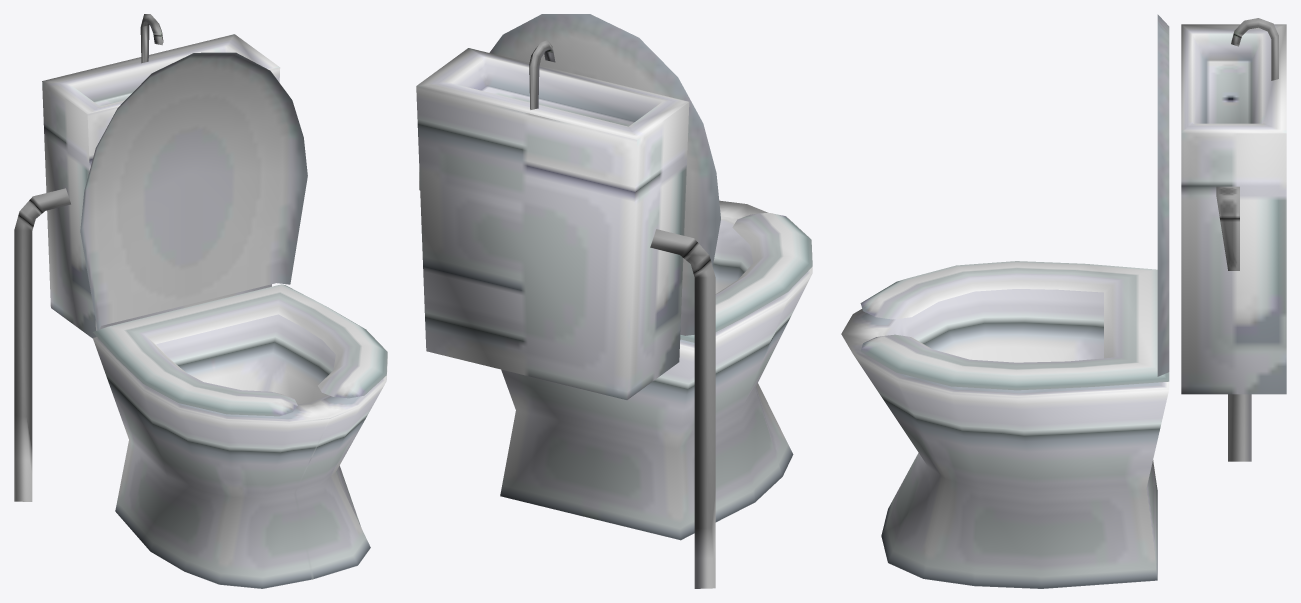
File: rmk_oth_wc0.dae
3 views of the same model, side by side, from view 1: azimuth 30°, elevation 25°; view 2: azimuth 150°, elevation 25°; view 3: azimuth 270°, elevation 25° (orthographic). The views are drawn at different scales.
Parts seen in each view (by area): view 1: rmk_oth_wc0; view 2: rmk_oth_wc0; view 3: rmk_oth_wc0.
Part boxes in pixels (x1,y1,x2,y2): rmk_oth_wc0: (14,14,387,588); rmk_oth_wc0: (416,14,812,588); rmk_oth_wc0: (841,14,1286,588).
Size of the model in its own units: 23.6 by 38.99 by 30.39.
Materials: 2 (2 with a texture image).
